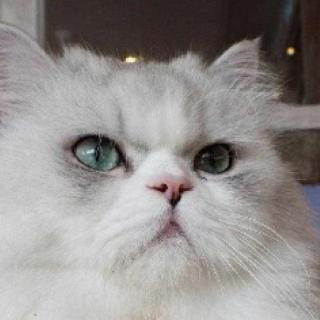cat: (0, 18, 289, 310)
nose: (143, 163, 198, 218)
